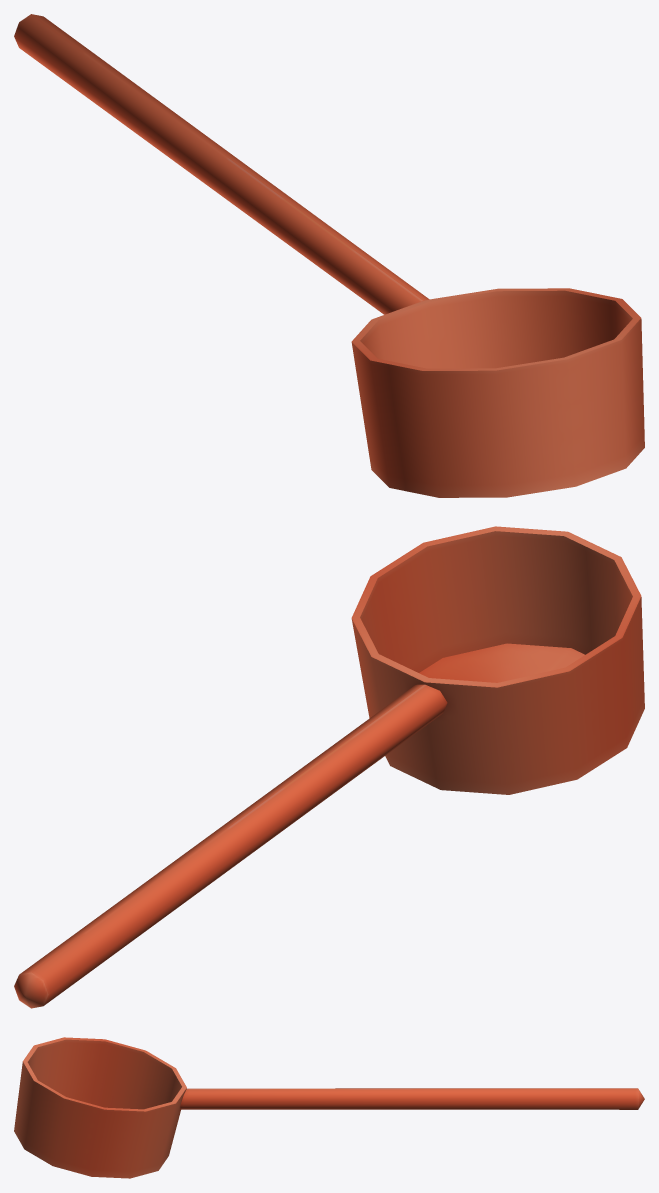
Rendered from jsf_Ladle_02.fbx.
3 renders of one model, top to bottom at view 1: azimuth 30°, elevation 25°; view 2: azimuth 150°, elevation 25°; view 3: azimuth 270°, elevation 25°, orthographic. The views are drawn at different scales.
Visible parts, largest first — view 1: jsf_Ladle_02; view 2: jsf_Ladle_02; view 3: jsf_Ladle_02.
Part boxes in pixels (x1,y1,x2,y2): jsf_Ladle_02: (14, 14, 644, 497); jsf_Ladle_02: (14, 526, 644, 1008); jsf_Ladle_02: (14, 1037, 644, 1178).
Bounding box in the file's own units: 14.5 × 9.07 × 54.86.
